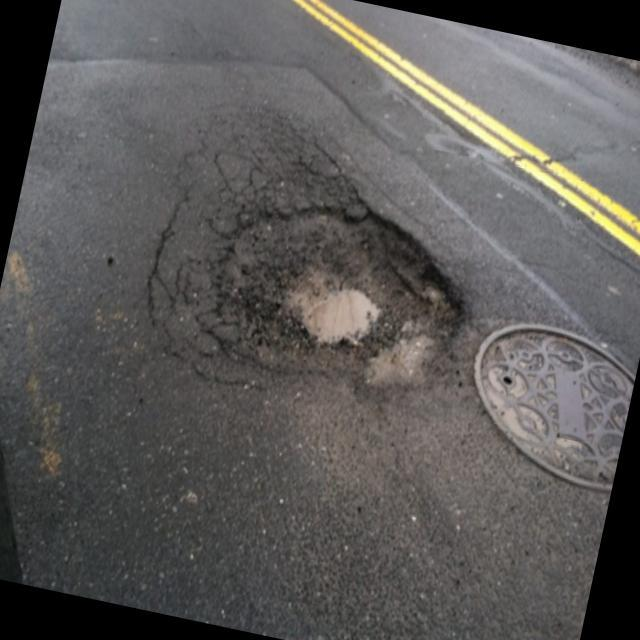Pothole: (182, 156, 480, 410)
